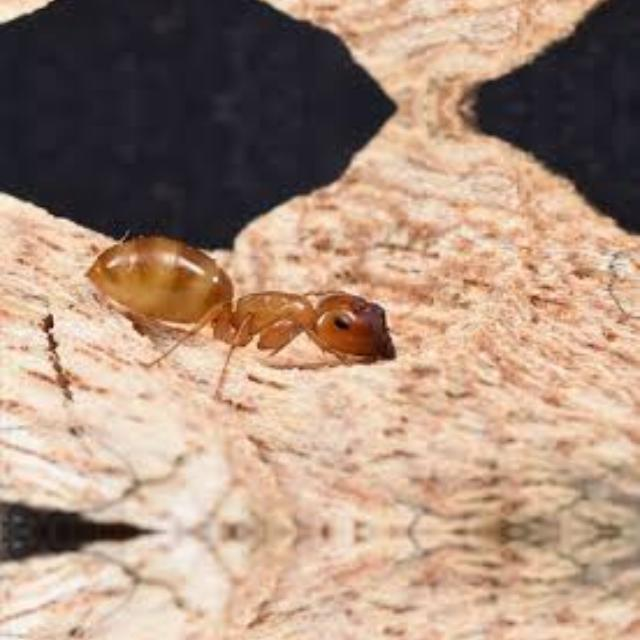Colobopsis: (38, 204, 452, 390)
